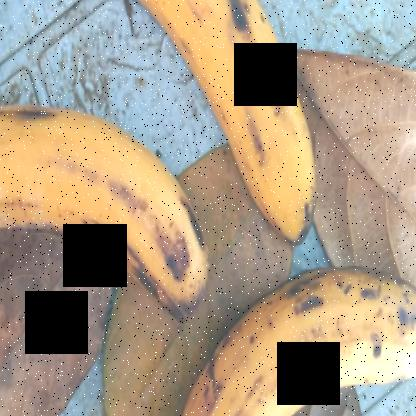overripe: (0, 88, 208, 331), (180, 250, 415, 416)
ripe: (98, 1, 331, 256)
